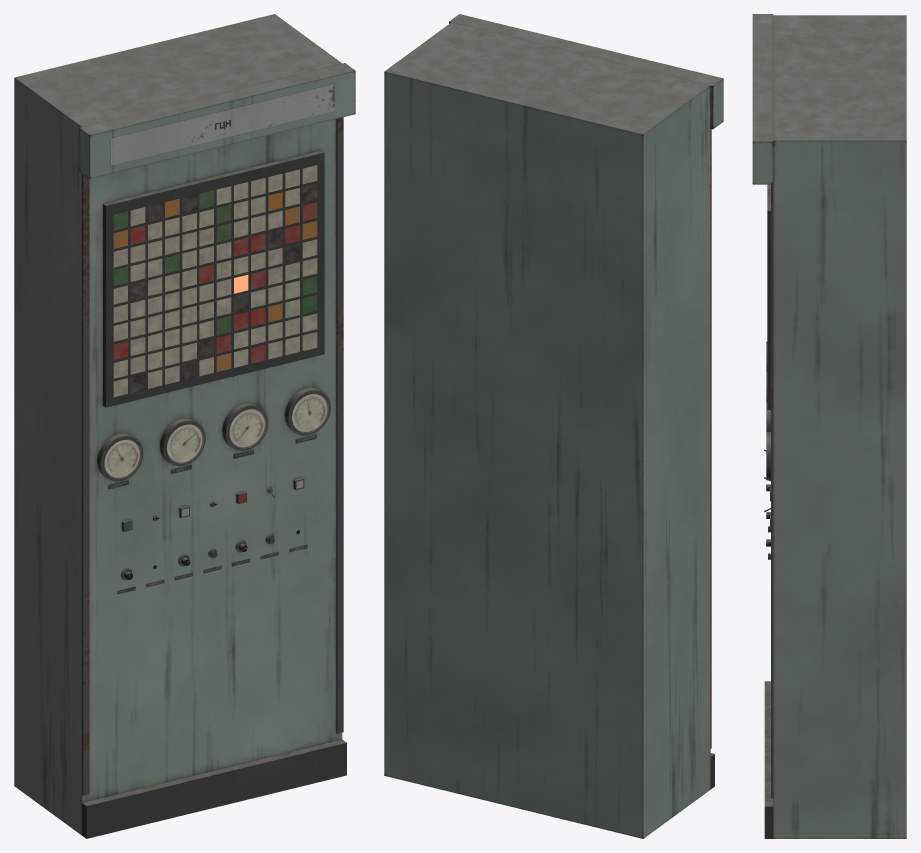
The model's file is SM_WallPanel_Annunciator.fbx.
3 renders of one model, left to right at view 1: azimuth 30°, elevation 25°; view 2: azimuth 150°, elevation 25°; view 3: azimuth 270°, elevation 25°, orthographic.
Parts seen in each view (by area): view 1: SM_WallPanel_Annunciator; view 2: SM_WallPanel_Annunciator; view 3: SM_WallPanel_Annunciator.
Boxes of the visible parts, x1,y1,x2,y2 form: SM_WallPanel_Annunciator: (14, 14, 355, 838); SM_WallPanel_Annunciator: (384, 14, 723, 838); SM_WallPanel_Annunciator: (752, 14, 906, 838).
Bounding box in the file's own units: 1.02 × 2.6 × 0.5216.
2 materials, 1 textured.
